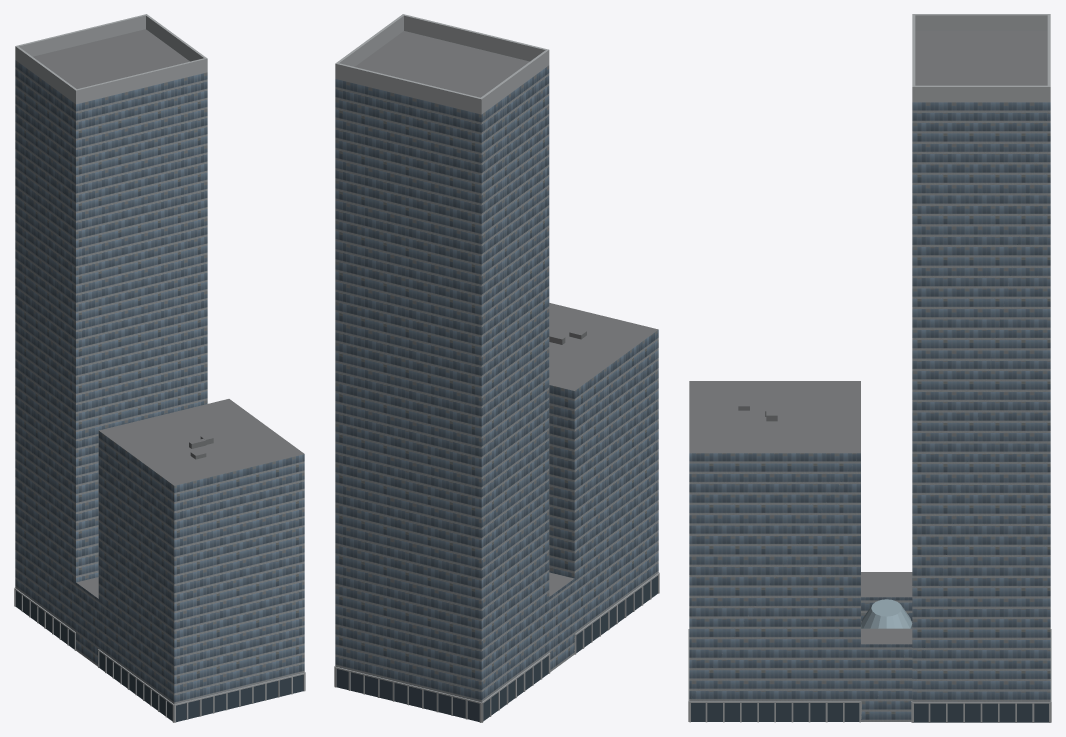
File: bloomberg_tower.glb
3 renders of one model, left to right at view 1: azimuth 30°, elevation 25°; view 2: azimuth 150°, elevation 25°; view 3: azimuth 270°, elevation 25°, orthographic. The views are drawn at different scales.
Visible parts, largest first — view 1: bloomberg_tower; view 2: bloomberg_tower; view 3: bloomberg_tower.
Boxes of the visible parts, x1=… form: bloomberg_tower: x1=14, y1=14, x2=305, y2=722; bloomberg_tower: x1=334, y1=14, x2=659, y2=722; bloomberg_tower: x1=688, y1=14, x2=1051, y2=722.
Bounding box in the file's own units: 61.29 × 246 × 127.
2 materials, 2 textured.
